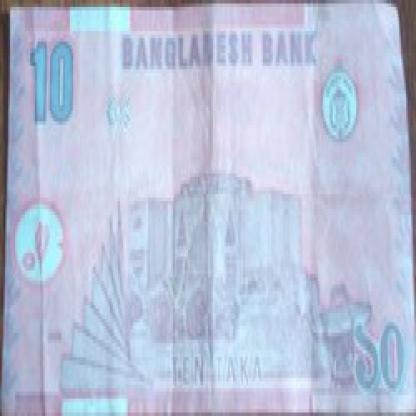Ten Taka: (31, 28, 82, 135), (348, 316, 408, 402)
